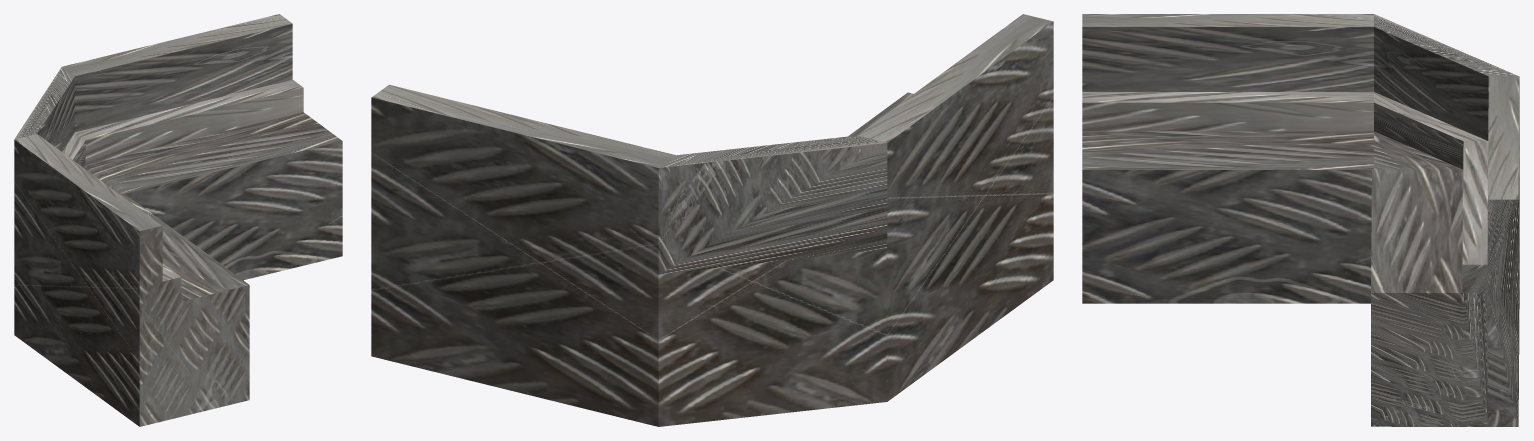
The model's file is mesaEsquina.obj.
3 renders of one model, left to right at view 1: azimuth 30°, elevation 25°; view 2: azimuth 150°, elevation 25°; view 3: azimuth 270°, elevation 25°, orthographic. The views are drawn at different scales.
Parts seen in each view (by area): view 1: Cube; view 2: Cube; view 3: Cube.
Boxes of the visible parts, x1,y1,x2,y2 form: Cube: [14, 14, 342, 426]; Cube: [371, 14, 1053, 426]; Cube: [1082, 14, 1519, 426].
Bounding box in the file's own units: 5.96 × 3.4 × 5.92.
